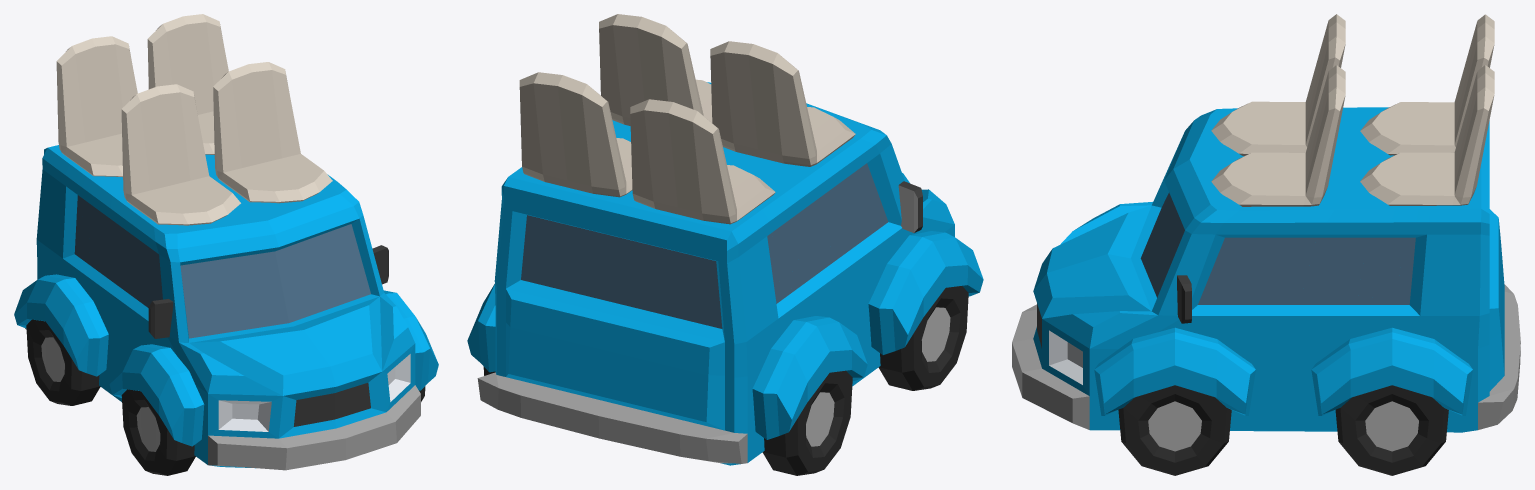
Rendered from Bus_Blue.fbx.
3 views of the same model, side by side, from view 1: azimuth 30°, elevation 25°; view 2: azimuth 150°, elevation 25°; view 3: azimuth 270°, elevation 25° (orthographic). The views are drawn at different scales.
Parts seen in each view (by area): view 1: Bus_Blue; view 2: Bus_Blue; view 3: Bus_Blue.
Boxes of the visible parts, box(x1,y1,x2,y2) form: Bus_Blue: box(14, 14, 438, 475); Bus_Blue: box(467, 14, 983, 475); Bus_Blue: box(1012, 14, 1520, 475).
Size of the model in its own units: 483 by 548 by 700.
